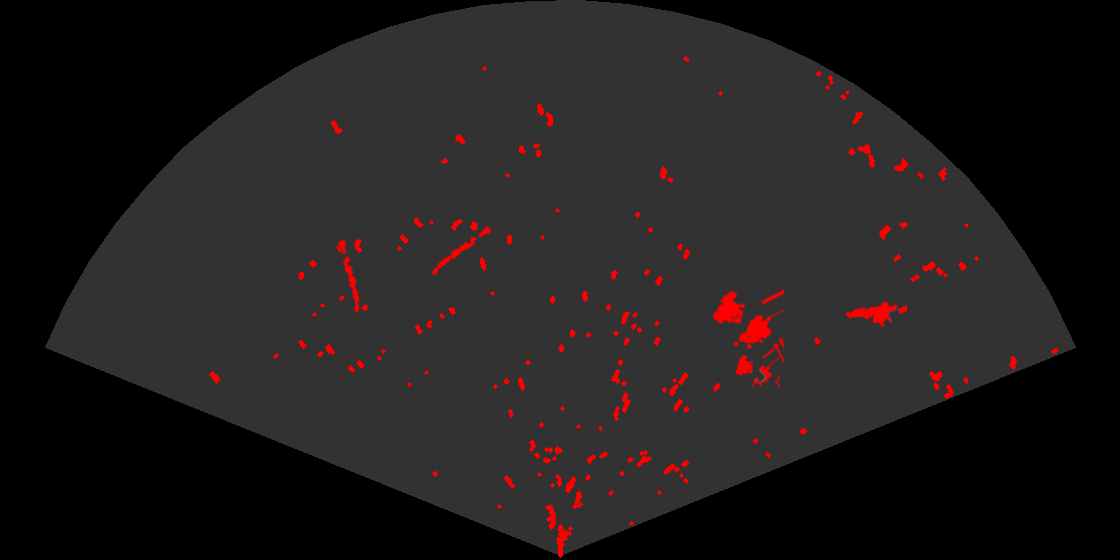cage: (711, 288, 784, 365), (734, 342, 780, 390)
chain: (430, 222, 495, 277), (336, 235, 361, 315)
frogman: (844, 300, 907, 329)
